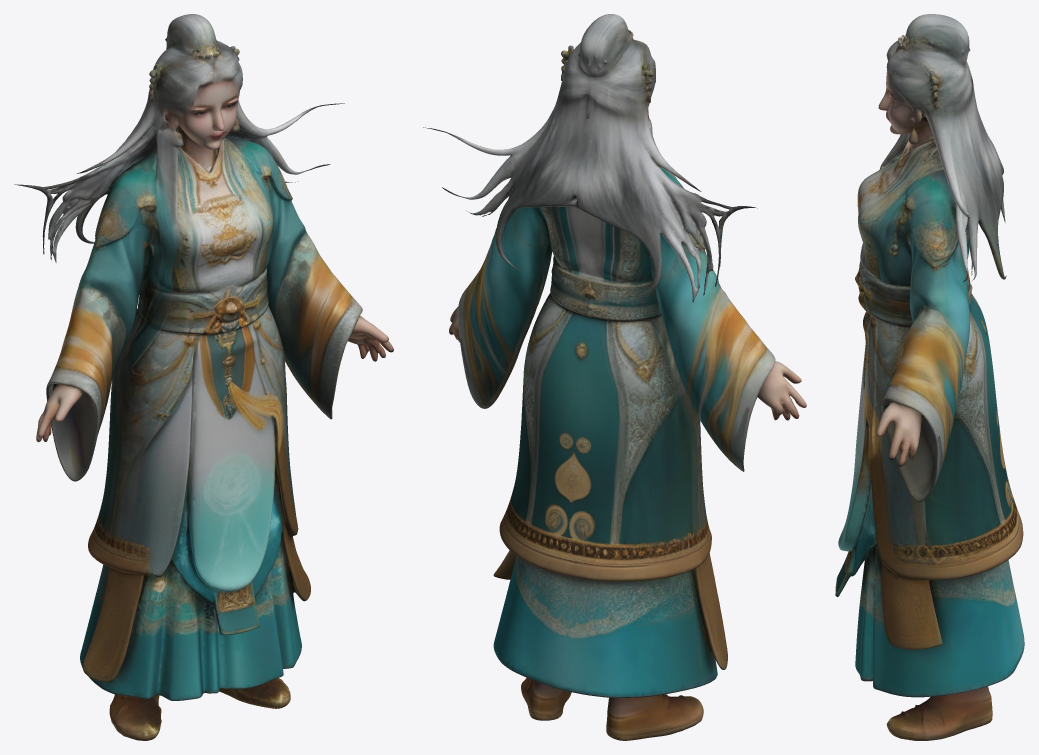
The model's file is yuxiaotong.fbx.
3 renders of one model, left to right at view 1: azimuth 30°, elevation 25°; view 2: azimuth 150°, elevation 25°; view 3: azimuth 270°, elevation 25°, orthographic.
Visible parts, largest first — view 1: Mesh_0; view 2: Mesh_0; view 3: Mesh_0.
Boxes of the visible parts, left/top/right/bottom form: Mesh_0: left=14, top=14, right=393, bottom=740; Mesh_0: left=423, top=14, right=806, bottom=740; Mesh_0: left=835, top=14, right=1024, bottom=740.
Bounding box in the file's own units: 108 × 200 × 50.07.
Materials: 1 (1 with a texture image).
